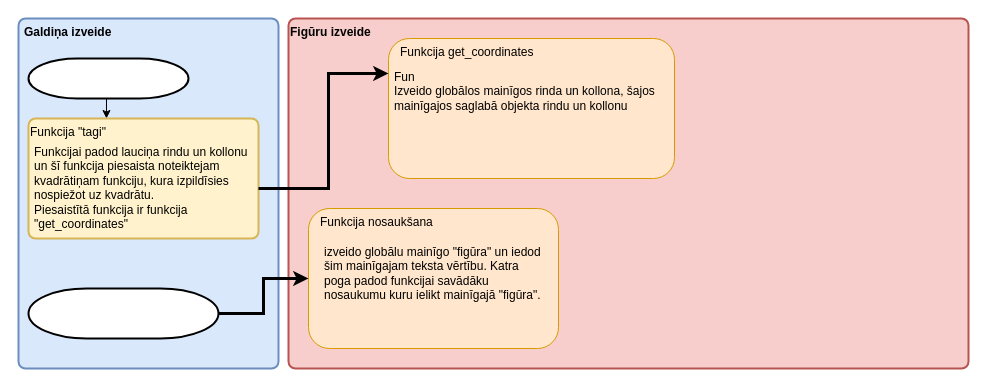
This 986x386 diagram has some shape labels left out. The shapes that lost their labels are listed below. From the top down, each one's centre as x and y in pixels, then its label:
the point at 108,78: Lauciņu izveide ar for ciklu
the point at 123,313: Pogu izveide priekš figūras izveidošanas
